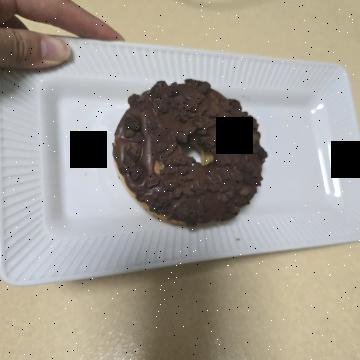doughnut: (76, 86, 241, 270)
